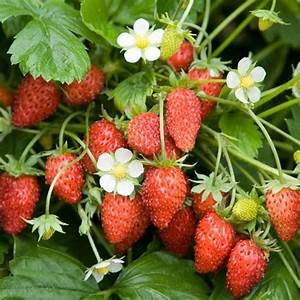Fresa: (133, 155, 195, 233), (8, 62, 63, 137), (160, 74, 207, 158), (216, 231, 273, 300), (190, 204, 239, 283), (39, 143, 94, 209), (79, 112, 132, 177), (1, 156, 42, 240), (97, 186, 145, 250), (260, 174, 300, 246)
